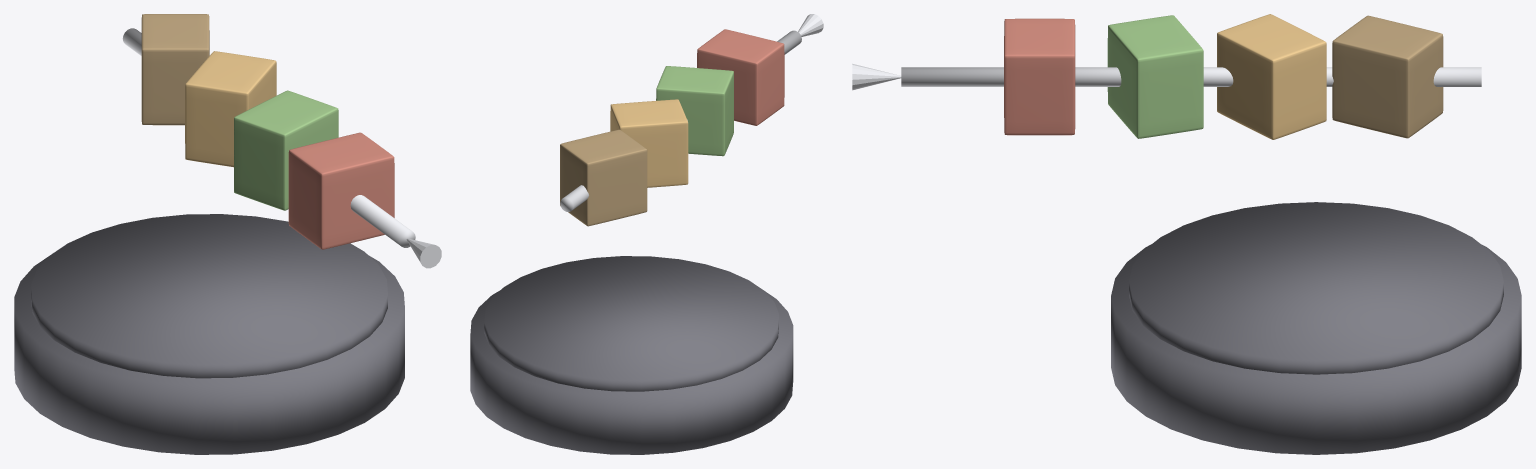
The model's file is Pierce.glb.
3 renders of one model, left to right at view 1: azimuth 30°, elevation 25°; view 2: azimuth 150°, elevation 25°; view 3: azimuth 270°, elevation 25°, orthographic. The views are drawn at different scales.
Parts seen in each view (by area): view 1: Pierce_rim, Pierce_pedestal, Pierce_chunk0, Pierce_chunk1, Pierce_chunk2, Pierce_chunk3, Pierce_rod, Pierce_tip; view 2: Pierce_rim, Pierce_pedestal, Pierce_chunk3, Pierce_chunk0, Pierce_chunk1, Pierce_chunk2, Pierce_rod, Pierce_tip; view 3: Pierce_rim, Pierce_pedestal, Pierce_chunk3, Pierce_chunk2, Pierce_chunk1, Pierce_chunk0, Pierce_rod, Pierce_tip.
Part boxes in pixels (x1,y1,x2,y2): Pierce_rim: (31,214,387,378); Pierce_pedestal: (14,255,404,454); Pierce_chunk0: (288,132,394,249); Pierce_chunk1: (234,90,338,210); Pierce_chunk2: (185,51,276,167); Pierce_chunk3: (141,14,209,125); Pierce_rod: (122,28,415,247); Pierce_tip: (406,238,441,268); Pierce_rim: (484,256,778,391); Pierce_pedestal: (470,290,793,454); Pierce_chunk3: (560,129,647,226); Pierce_chunk0: (697,29,784,125); Pierce_chunk1: (656,66,733,156); Pierce_chunk2: (610,99,688,187); Pierce_rod: (560,30,801,211); Pierce_tip: (798,14,823,36); Pierce_rim: (1129,202,1503,374); Pierce_pedestal: (1111,244,1521,454); Pierce_chunk3: (1332,15,1443,138); Pierce_chunk2: (1217,14,1326,139); Pierce_chunk1: (1107,15,1203,138); Pierce_chunk0: (1004,18,1075,135); Pierce_rod: (901,67,1481,86); Pierce_tip: (852,63,901,90).
Bounding box in the file's own units: 0.92 × 0.8199 × 1.5.
